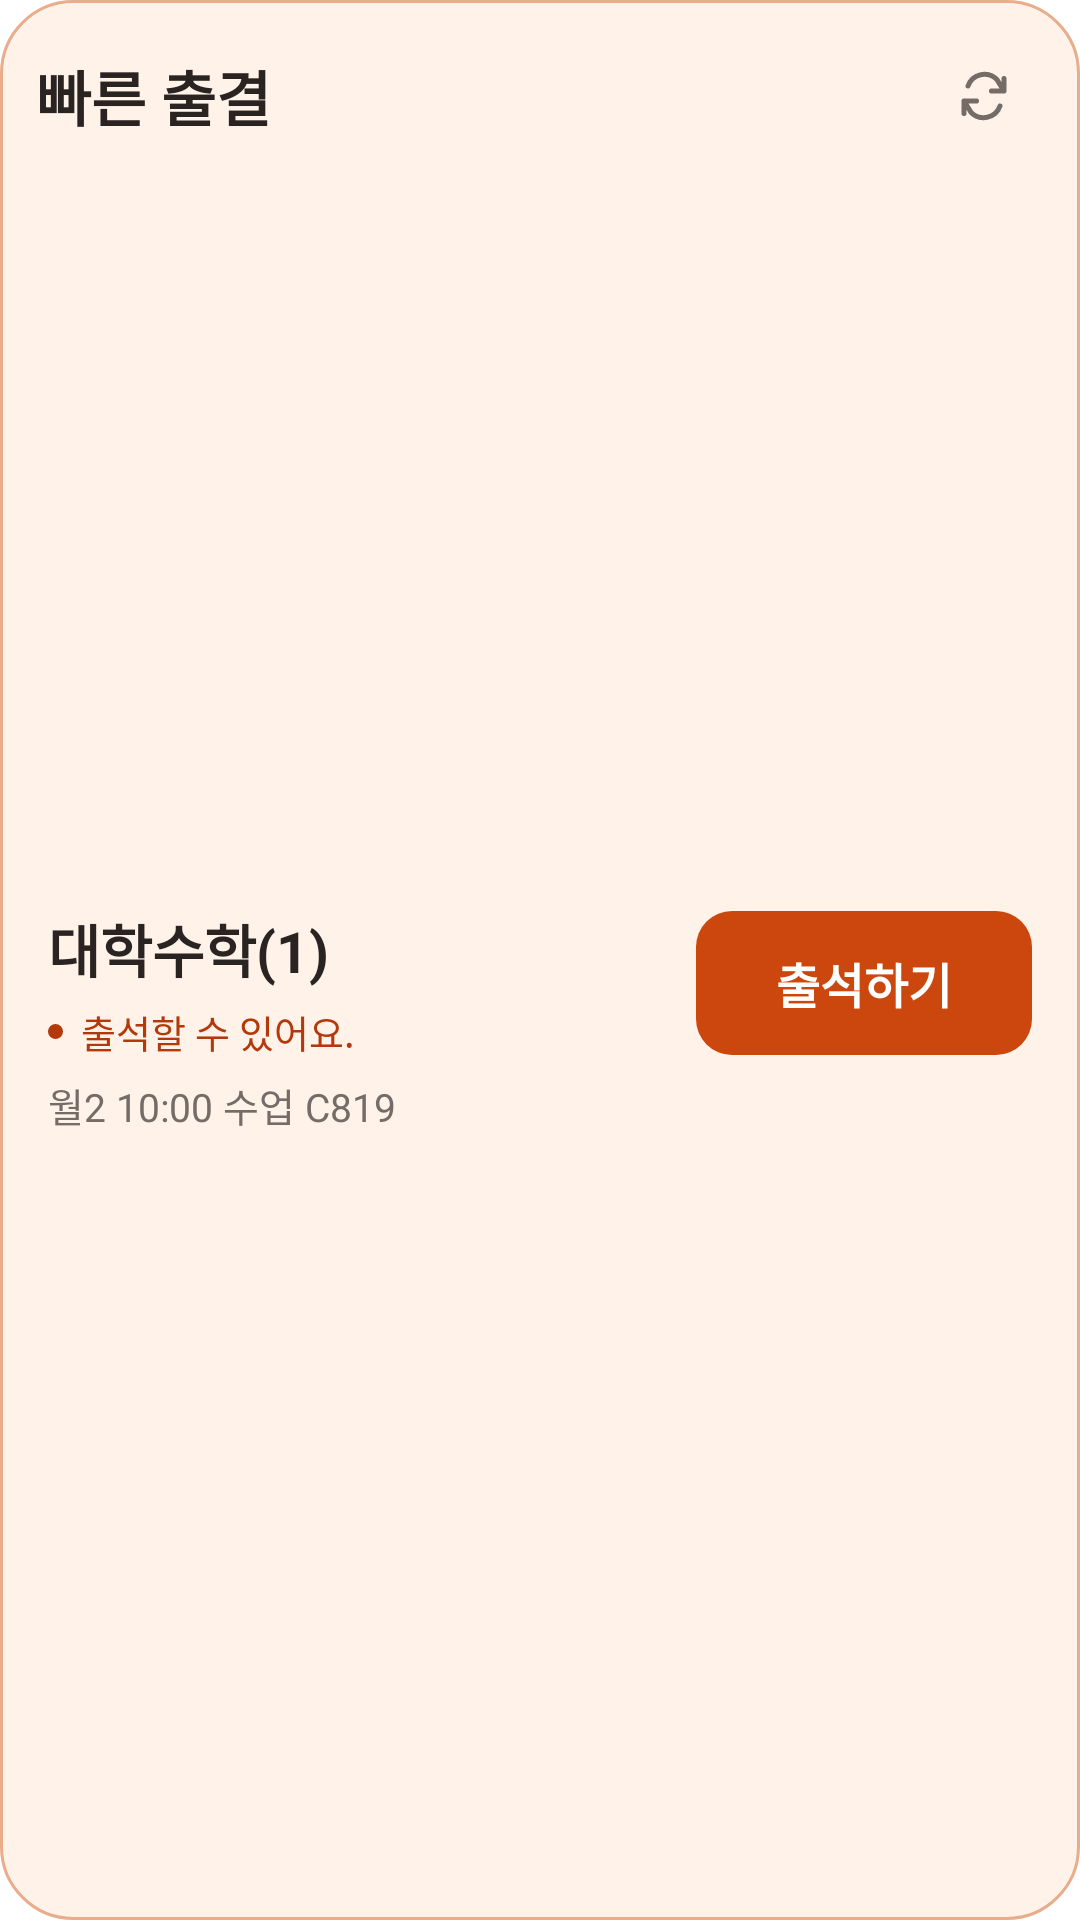

Named icons in this screenshot (1080px×1920px) and their centers, (x=x, y=y):
widget refresh: (x=984, y=96)
